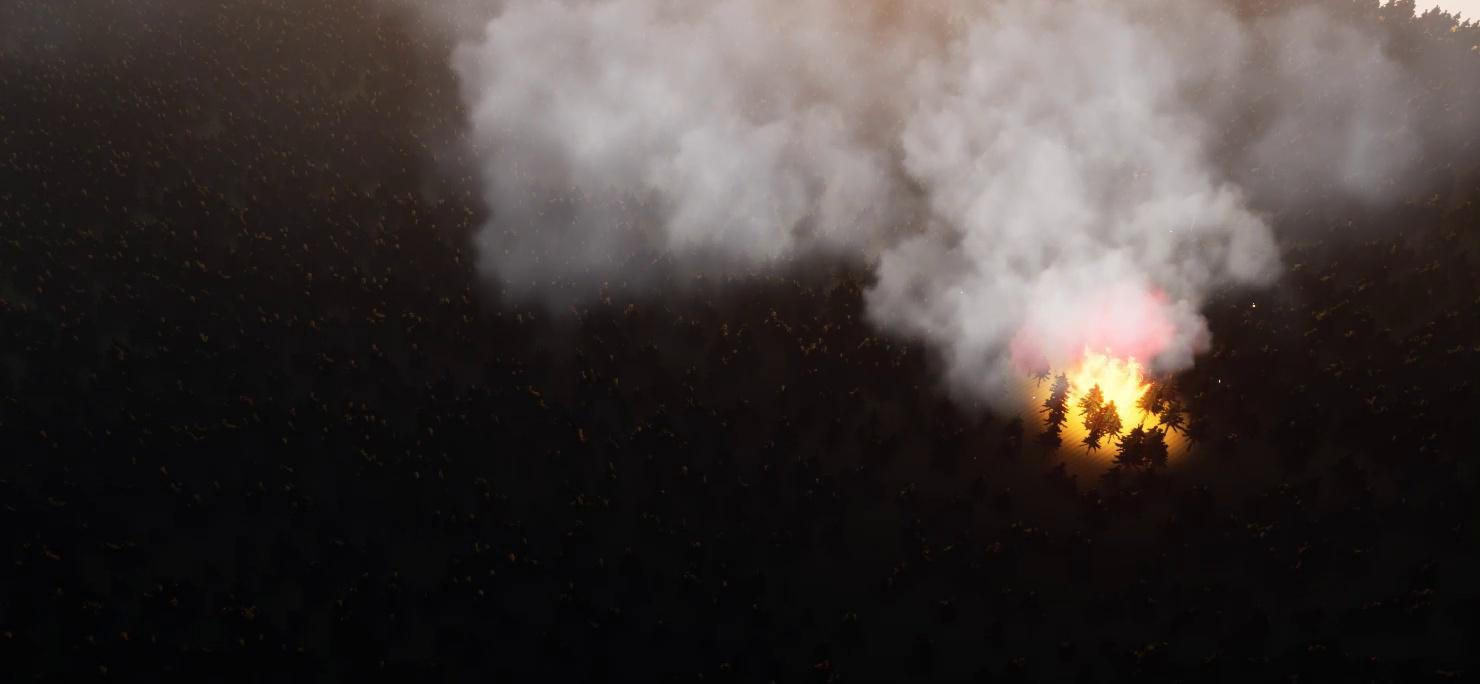fire: (1064, 347, 1192, 457)
smoke: (418, 0, 1479, 421)
